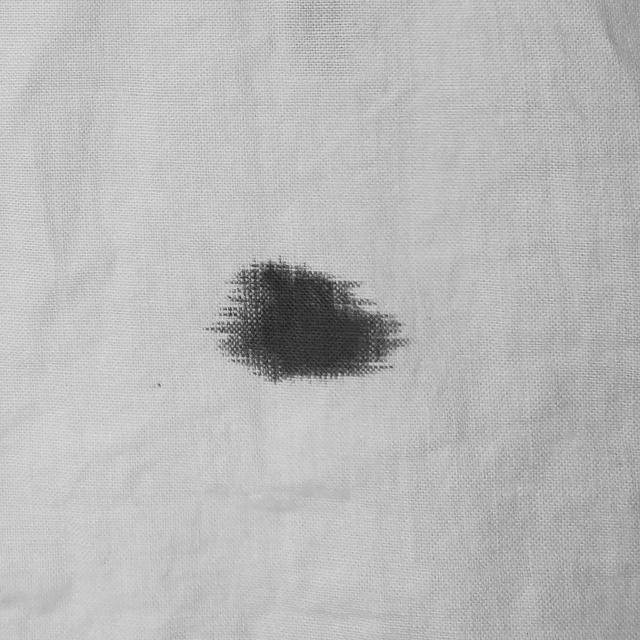Stain: (207, 259, 408, 382)
